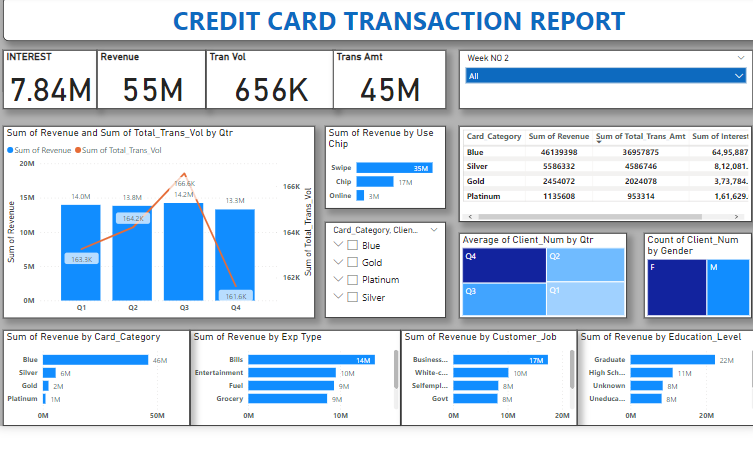

The dashboard page shown, as its layout file describes it:
{"tool":"powerbi","page":{"name":"cc transaction","canvas":[1280,720],"ordinal":0},"visuals":[{"type":"textbox","box":[10.1,0,1269.9,73.9],"z":0},{"type":"lineStackedColumnComboChart","fields":{"Category":["credit_card.Qtr"],"Y":["Sum(credit_card.Revenue)"],"Y2":["Sum(credit_card.Total_Trans_Vol)"]},"box":[10.1,216.7,524.1,322.5],"z":1000},{"type":"barChart","fields":{"Y":["Sum(credit_card.Revenue)"],"Category":["credit_card.Exp Type"]},"box":[324.2,559.4,354.4,161.3],"z":2000},{"type":"barChart","fields":{"Y":["Sum(credit_card.Revenue)"],"Category":["customer.Education_Level"]},"box":[974.3,559.4,305.7,161.3],"z":3000},{"type":"barChart","fields":{"Y":["Sum(credit_card.Revenue)"],"Category":["customer.Customer_Job"]},"box":[678.6,559.4,295.6,161.3],"z":4000},{"type":"barChart","fields":{"Y":["Sum(credit_card.Revenue)"],"Category":["credit_card.Card_Category"]},"box":[10.1,559.4,314.1,161.3],"z":5000},{"type":"slicer","fields":{"Values":["credit_card.Week NO 2"]},"box":[776.1,89,493.9,99.1],"z":6000},{"type":"card","title":"INTEREST","fields":{"Values":["Sum(credit_card.Interest_Earned)"]},"box":[10.1,89,157.9,99.1],"z":7000},{"type":"card","title":"Revenue","fields":{"Values":["Sum(credit_card.Revenue)"]},"box":[168,89,183.1,99.1],"z":8000},{"type":"card","title":"Tran Vol","fields":{"Values":["Sum(credit_card.Total_Trans_Vol)"]},"box":[351.1,89,216.7,99.1],"z":9000},{"type":"card","title":"Trans Amt","fields":{"Values":["Sum(credit_card.Total_Trans_Amt)"]},"box":[564.4,89,189.8,99.1],"z":10000},{"type":"barChart","fields":{"Y":["Sum(credit_card.Revenue)"],"Category":["credit_card.Use Chip"]},"box":[551,216.7,203.3,139.4],"z":11000},{"type":"tableEx","fields":{"Values":["credit_card.Card_Category","Sum(credit_card.Revenue)","Sum(credit_card.Total_Trans_Amt)","Sum(credit_card.Interest_Earned)"]},"box":[776.1,216.7,492.2,161.3],"z":12000},{"type":"treemap","fields":{"Values":["Avg(customer.Client_Num)"],"Group":["credit_card.Qtr"]},"box":[776.1,396.4,282.2,142.8],"z":13000},{"type":"treemap","fields":{"Group":["customer.Gender"],"Values":["CountNonNull(credit_card.Client_Num)"]},"box":[1086.8,396.4,181.4,142.8],"z":14000},{"type":"slicer","fields":{"Values":["credit_card.Card_Category","credit_card.Client_Num"]},"box":[551,378,203.3,161.3],"z":15000}]}

Visuals, with their boxes in screenshot pixels (x1, y1, x2, y2):
textbox: 0/0/752/37
lineStackedColumnComboChart - credit_card.Qtr x Sum(credit_card.Revenue): 0/122/313/316
barChart - Sum(credit_card.Revenue) x credit_card.Exp Type: 187/329/400/426
barChart - Sum(credit_card.Revenue) x customer.Education_Level: 578/329/752/426
barChart - Sum(credit_card.Revenue) x customer.Customer_Job: 400/329/578/426
barChart - Sum(credit_card.Revenue) x credit_card.Card_Category: 0/329/187/426
slicer - credit_card.Week NO 2: 459/46/752/105
"INTEREST" card: 0/46/93/105
"Revenue" card: 93/46/203/105
"Tran Vol" card: 203/46/334/105
"Trans Amt" card: 332/46/446/105
barChart - Sum(credit_card.Revenue) x credit_card.Use Chip: 324/122/446/206
tableEx - credit_card.Card_Category x Sum(credit_card.Revenue): 459/122/752/220
treemap - Avg(customer.Client_Num) x credit_card.Qtr: 459/231/629/316
treemap - customer.Gender x CountNonNull(credit_card.Client_Num): 646/231/752/316
slicer - credit_card.Card_Category x credit_card.Client_Num: 324/220/446/317
